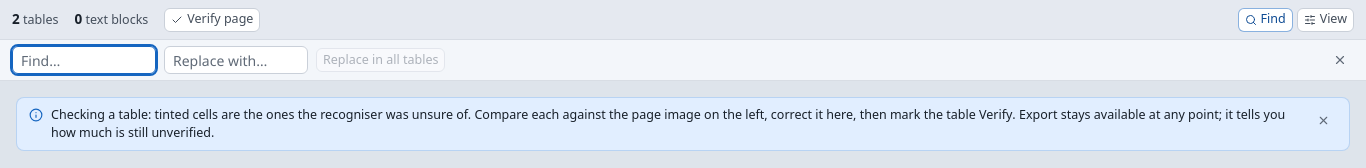
Test: Find bar match counter and stepping › wraps around rather than dead-ending at the last match
Type "total" into the field with placeholder "Find…" at (84, 60), box [12,46,156,74]
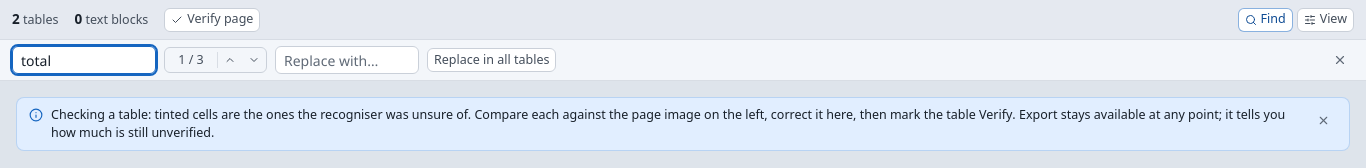
Click the button named "Next match" at (254, 60), box [242,48,266,72]
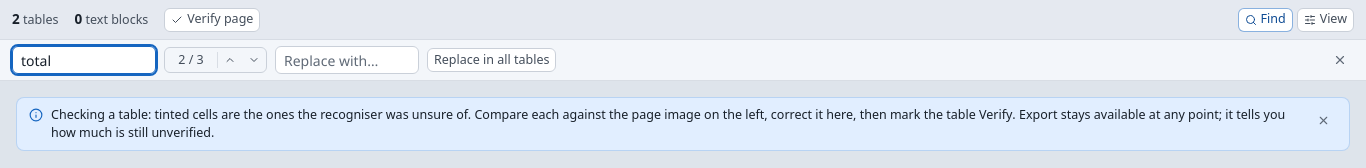
Click the button named "Next match" at (254, 60), box [242,48,266,72]
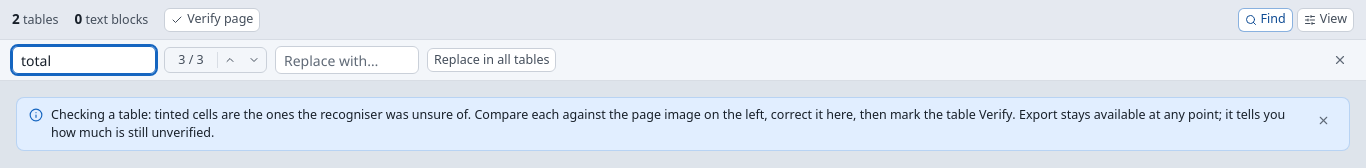
Result: the text "3 / 3" is shown at [178,51,204,68]
Click the button named "Next match" at (254, 60), box [242,48,266,72]
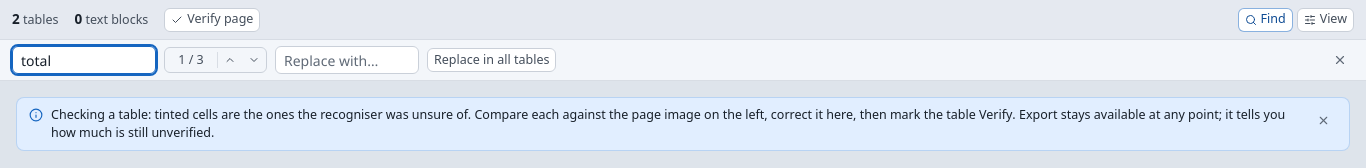
Result: the text "1 / 3" is shown at [178,51,204,68]
